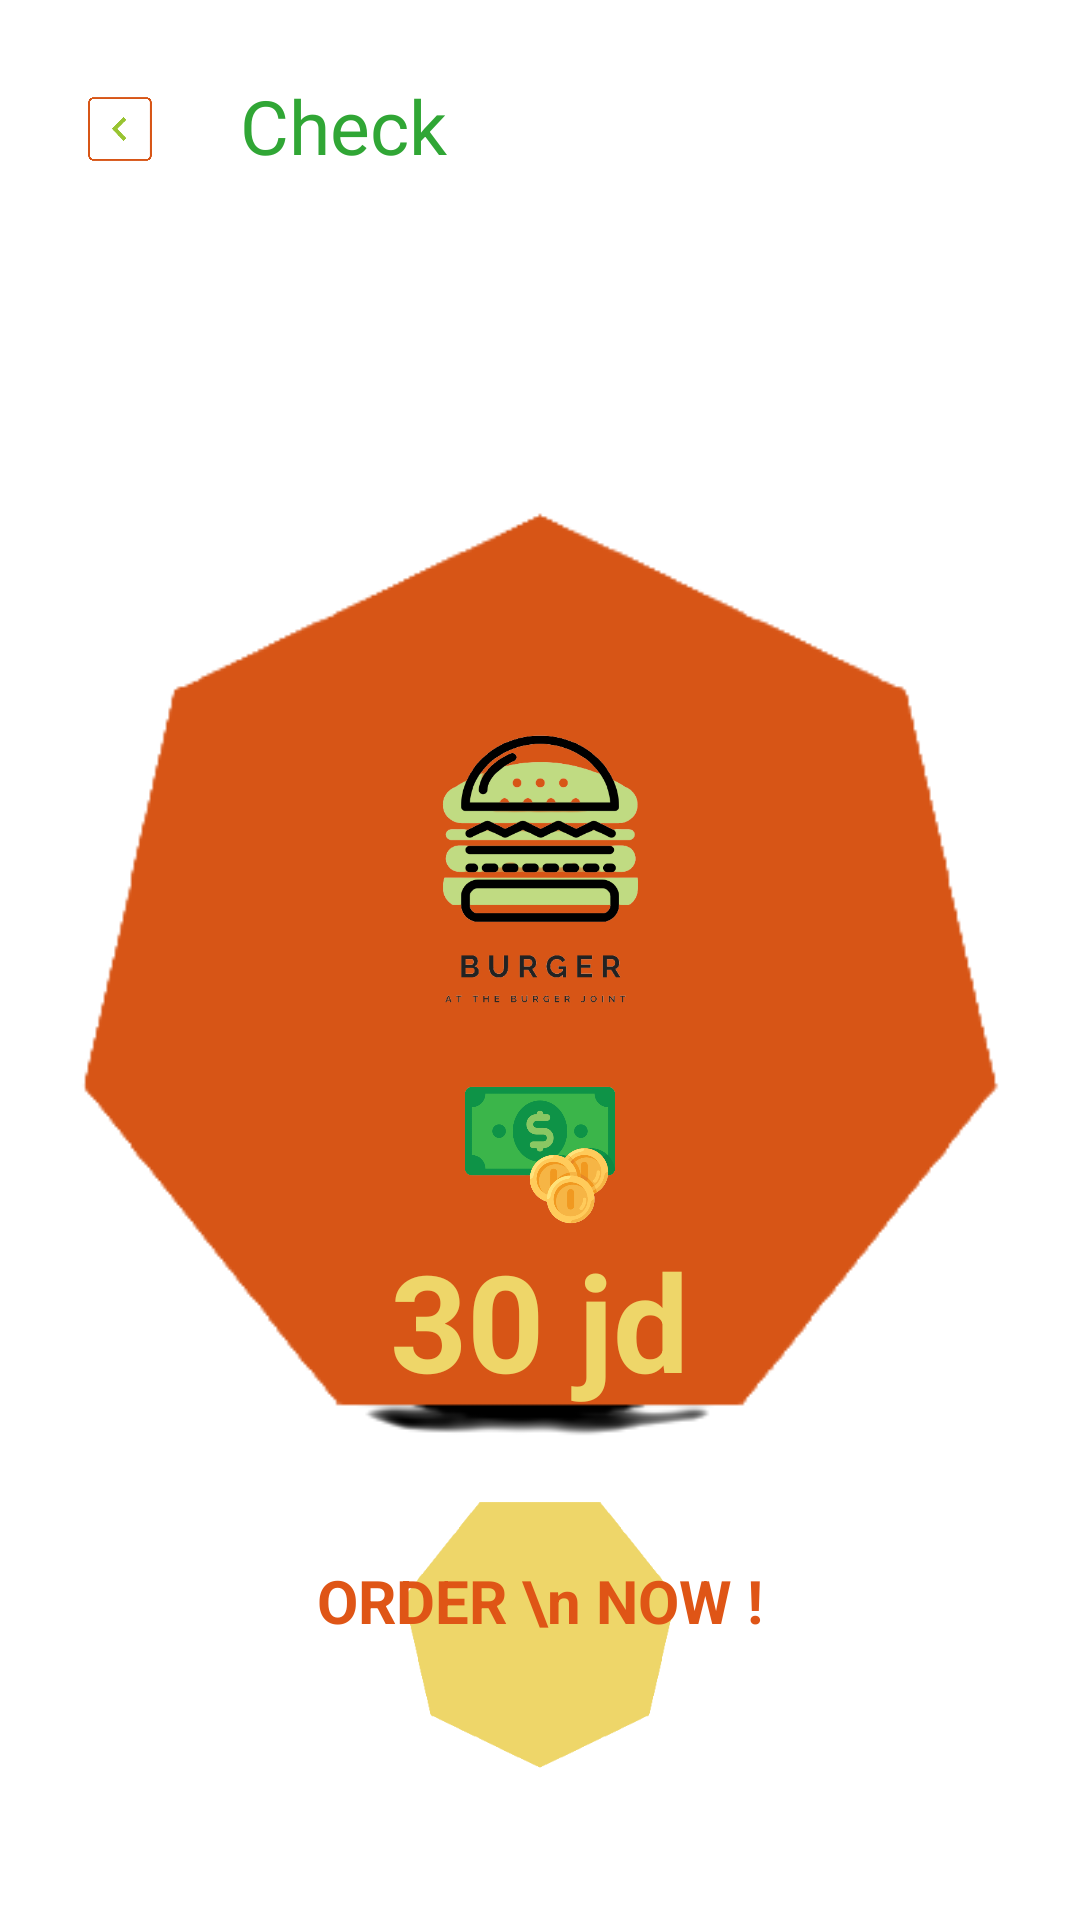

Icon bounding boxes for this 1080 × 1920 phone screenshot, format (x1, y1, x2, y2):
back: (88, 97, 152, 161)
finance: (465, 1087, 615, 1223)
